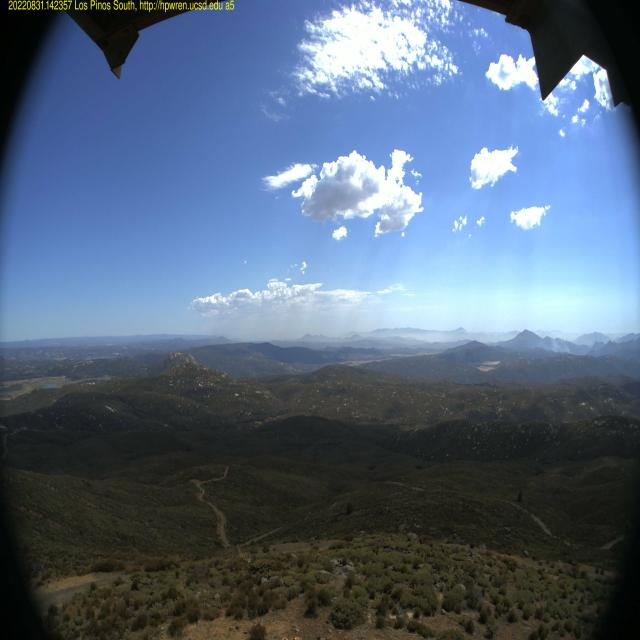smoke: (525, 332, 560, 350), (552, 342, 574, 356)
